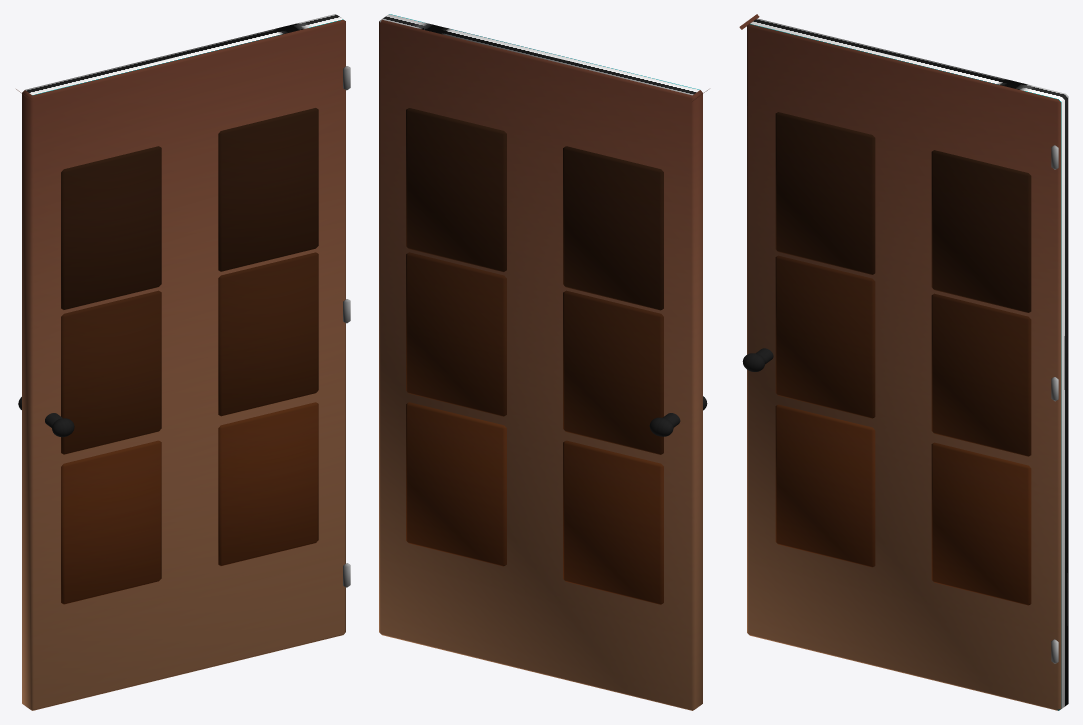
Rendered from Puerta.fbx.
3 renders of one model, left to right at view 1: azimuth 30°, elevation 25°; view 2: azimuth 150°, elevation 25°; view 3: azimuth 330°, elevation 25°, orthographic.
Parts seen in each view (by area): view 1: Cube.029; view 2: Cube.029; view 3: Cube.029.
Boxes of the visible parts, <box> form: Cube.029: <box>16,14,350,710</box>; Cube.029: <box>379,14,708,710</box>; Cube.029: <box>739,14,1068,710</box>.
Bounding box in the file's own units: 458 × 843 × 107.
1 material, 1 textured.
